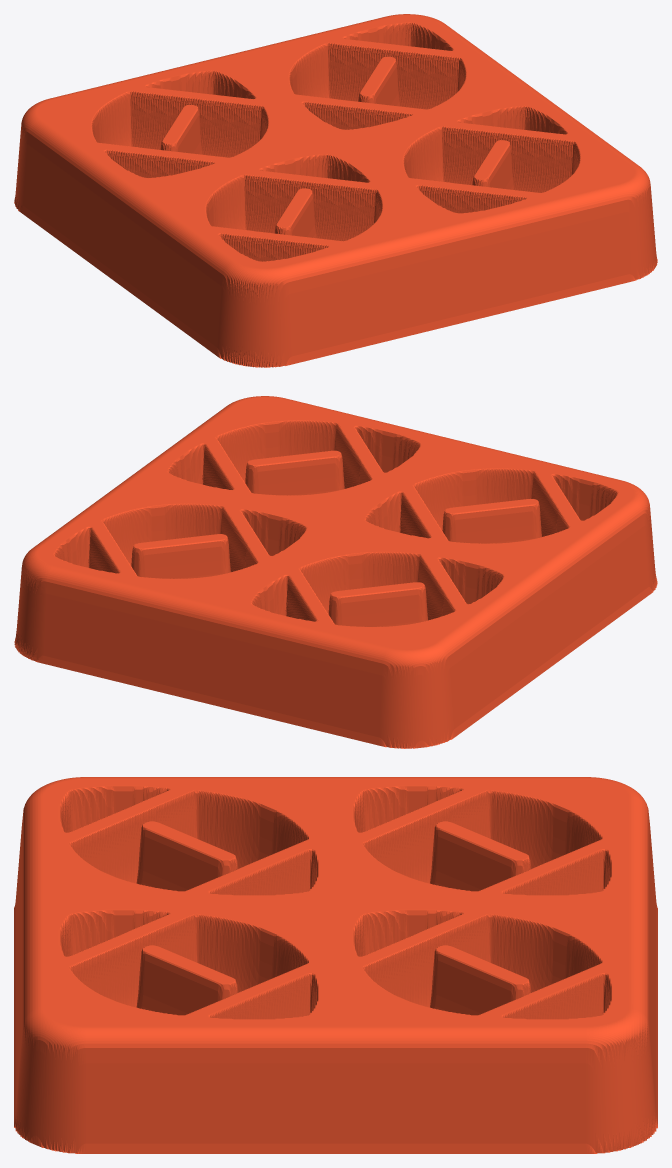
File: mold.glb
3 views of the same model, one above another, from view 1: azimuth 30°, elevation 25°; view 2: azimuth 150°, elevation 25°; view 3: azimuth 270°, elevation 25° (orthographic). The views are drawn at different scales.
Parts seen in each view (by area): view 1: geometry_0; view 2: geometry_0; view 3: geometry_0.
Part boxes in pixels (x1,y1,x2,y2): geometry_0: [14, 14, 657, 367]; geometry_0: [14, 396, 657, 748]; geometry_0: [14, 777, 657, 1153].
Bounding box in the file's own units: 0.0808 × 0.0159 × 0.0808.
